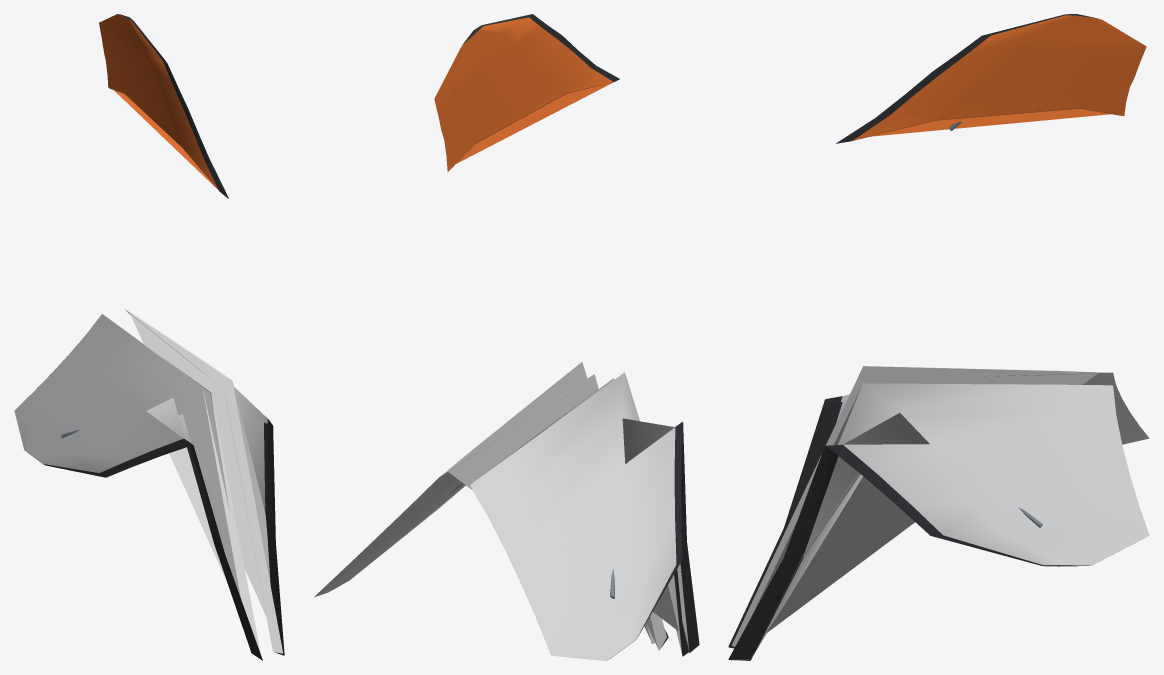
The model's file is nomad_tail_lg.fbx.
3 renders of one model, left to right at view 1: azimuth 30°, elevation 25°; view 2: azimuth 150°, elevation 25°; view 3: azimuth 270°, elevation 25°, orthographic. The views are drawn at different scales.
Visible parts, largest first — view 1: Tail_Wye; view 2: Tail_Wye; view 3: Tail_Wye.
Part boxes in pixels (x1=…): Tail_Wye: x1=14, y1=14, x2=284, y2=660; Tail_Wye: x1=314, y1=14, x2=699, y2=660; Tail_Wye: x1=728, y1=14, x2=1149, y2=660.
Size of the model in its own units: 74.01 by 191 by 114.
